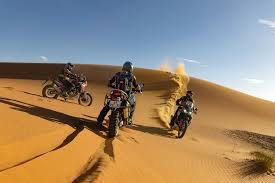motorcycle: (98, 81, 144, 137), (37, 75, 98, 104), (165, 101, 200, 138)
